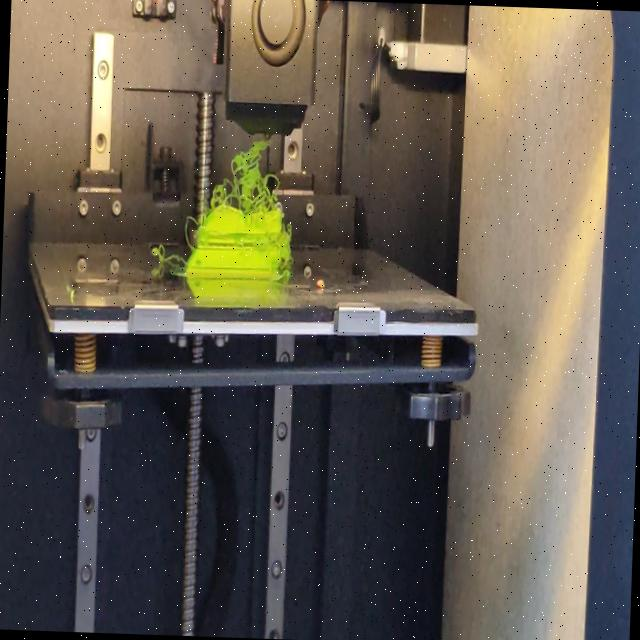spaghetti: (206, 133, 287, 209), (146, 242, 188, 273), (184, 212, 197, 250), (278, 264, 290, 276)
